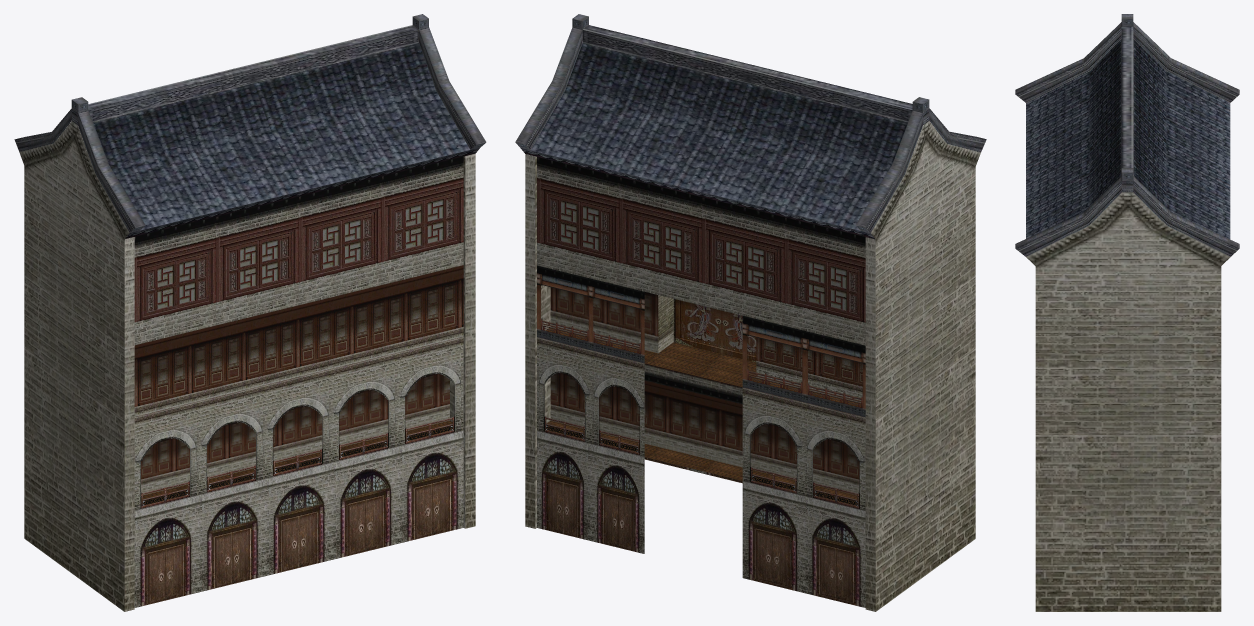
Rendered from cj_monstad_martbuil02_01.glb.
3 views of the same model, side by side, from view 1: azimuth 30°, elevation 25°; view 2: azimuth 150°, elevation 25°; view 3: azimuth 270°, elevation 25° (orthographic). The views are drawn at different scales.
Parts seen in each view (by area): view 1: CJ_monstad_martbuil02_01_03, CJ_monstad_martbuil02_01_02, CJ_monstad_martbuil02_01_04, CJ_monstad_martbuil02_01_05, CJ_monstad_martbuil02_01_01; view 2: CJ_monstad_martbuil02_01_03, CJ_monstad_martbuil02_01_02, CJ_monstad_martbuil02_01_04, CJ_monstad_martbuil02_01_05, CJ_monstad_martbuil02_01_01, CJ_monstad_martbuil02_01_06; view 3: CJ_monstad_martbuil02_01_02, CJ_monstad_martbuil02_01_04, CJ_monstad_martbuil02_01_01.
Boxes of the visible parts, box(x1,y1,x2,y2) form: CJ_monstad_martbuil02_01_03: box(125, 156, 463, 607); CJ_monstad_martbuil02_01_02: box(19, 121, 475, 611); CJ_monstad_martbuil02_01_04: box(93, 42, 480, 238); CJ_monstad_martbuil02_01_05: box(134, 337, 463, 510); CJ_monstad_martbuil02_01_01: box(14, 14, 486, 232); CJ_monstad_martbuil02_01_03: box(537, 157, 865, 607); CJ_monstad_martbuil02_01_02: box(525, 121, 980, 611); CJ_monstad_martbuil02_01_04: box(520, 42, 908, 239); CJ_monstad_martbuil02_01_05: box(537, 337, 865, 510); CJ_monstad_martbuil02_01_01: box(515, 14, 986, 352); CJ_monstad_martbuil02_01_06: box(537, 265, 865, 417); CJ_monstad_martbuil02_01_02: box(1026, 192, 1230, 611); CJ_monstad_martbuil02_01_04: box(1026, 39, 1230, 239); CJ_monstad_martbuil02_01_01: box(1015, 14, 1239, 256).
Bounding box in the file's own units: 13.68 × 17.65 × 8.17.
6 materials, 6 textured.
